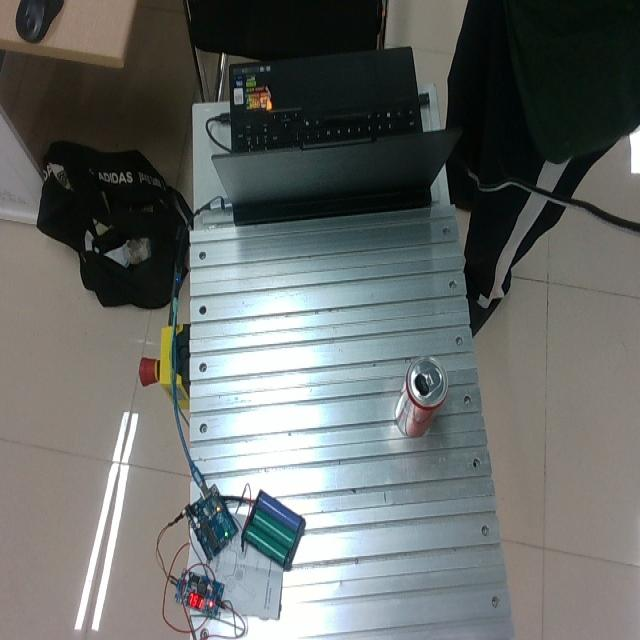coca: (393, 353, 447, 436)
